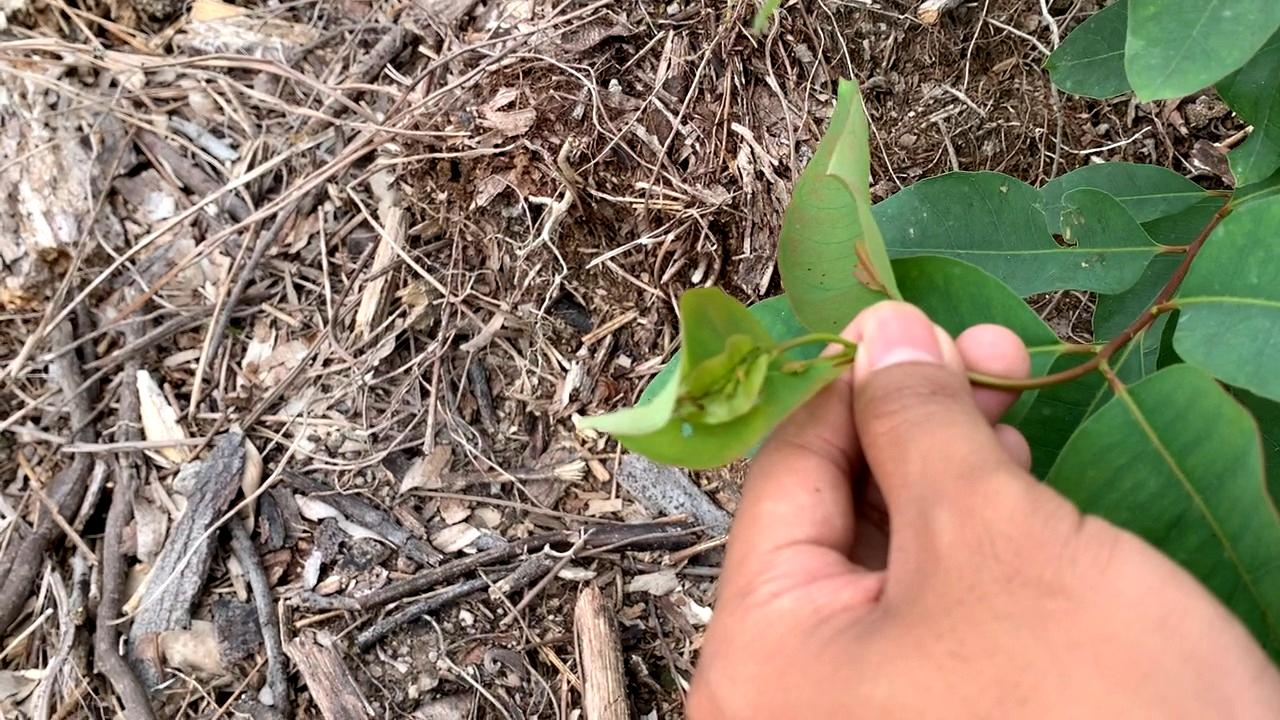Leaf Roller - Leaf: (572, 292, 826, 480)
